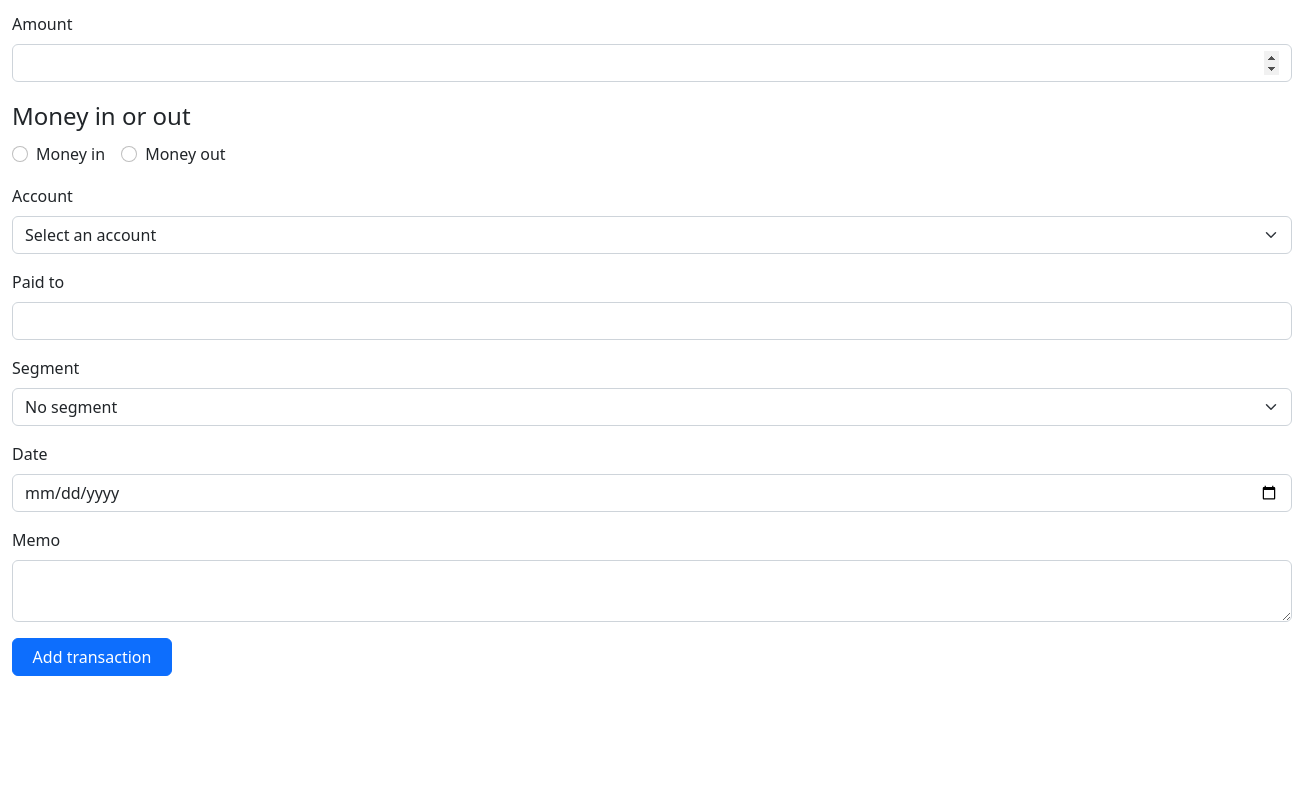
Test case: zero or negative amount is blocked with inline validation before submit
The width and height of the screenshot is (1304, 812).
Type "0" into the number field labelled "Amount".
click(652, 63); type("0")  # box x1=12 y1=44 x2=1292 y2=82
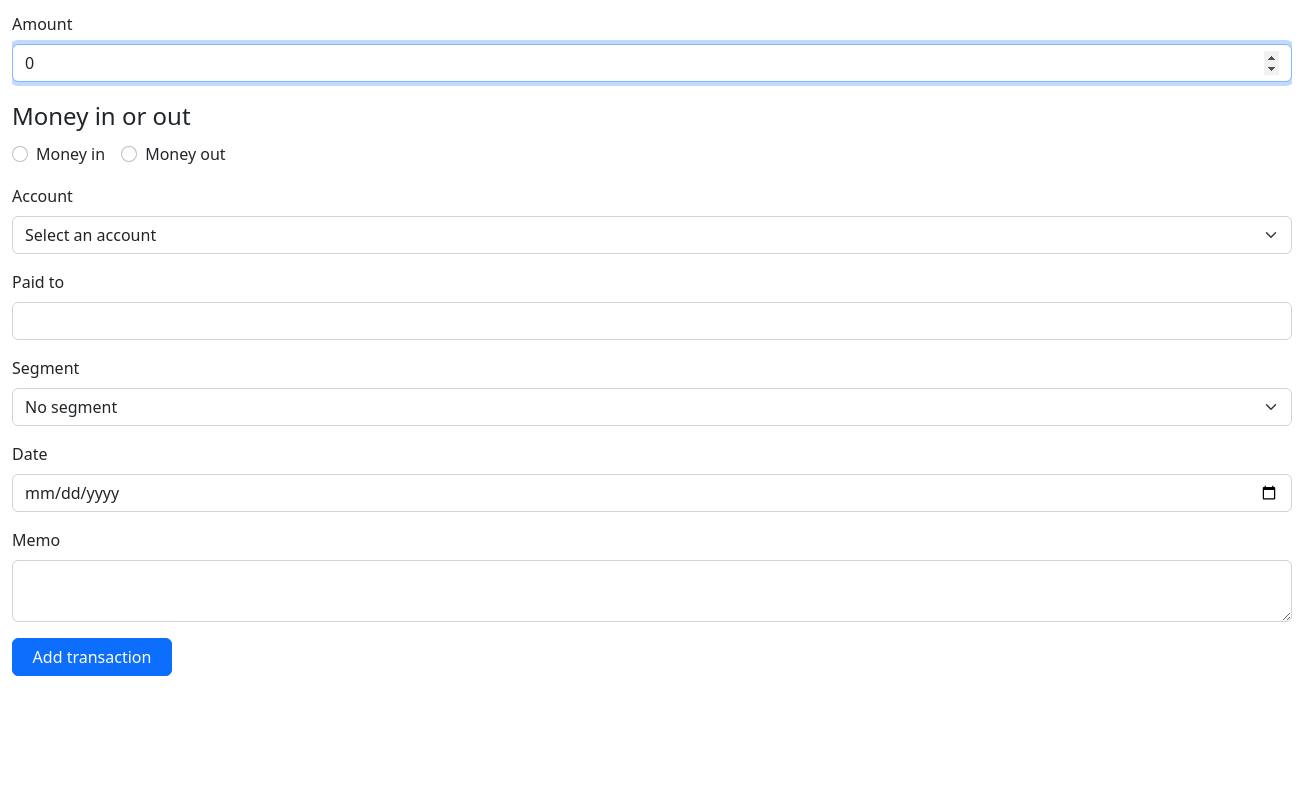
Click the button "Add transaction".
click(92, 657)  # box x1=12 y1=638 x2=172 y2=676
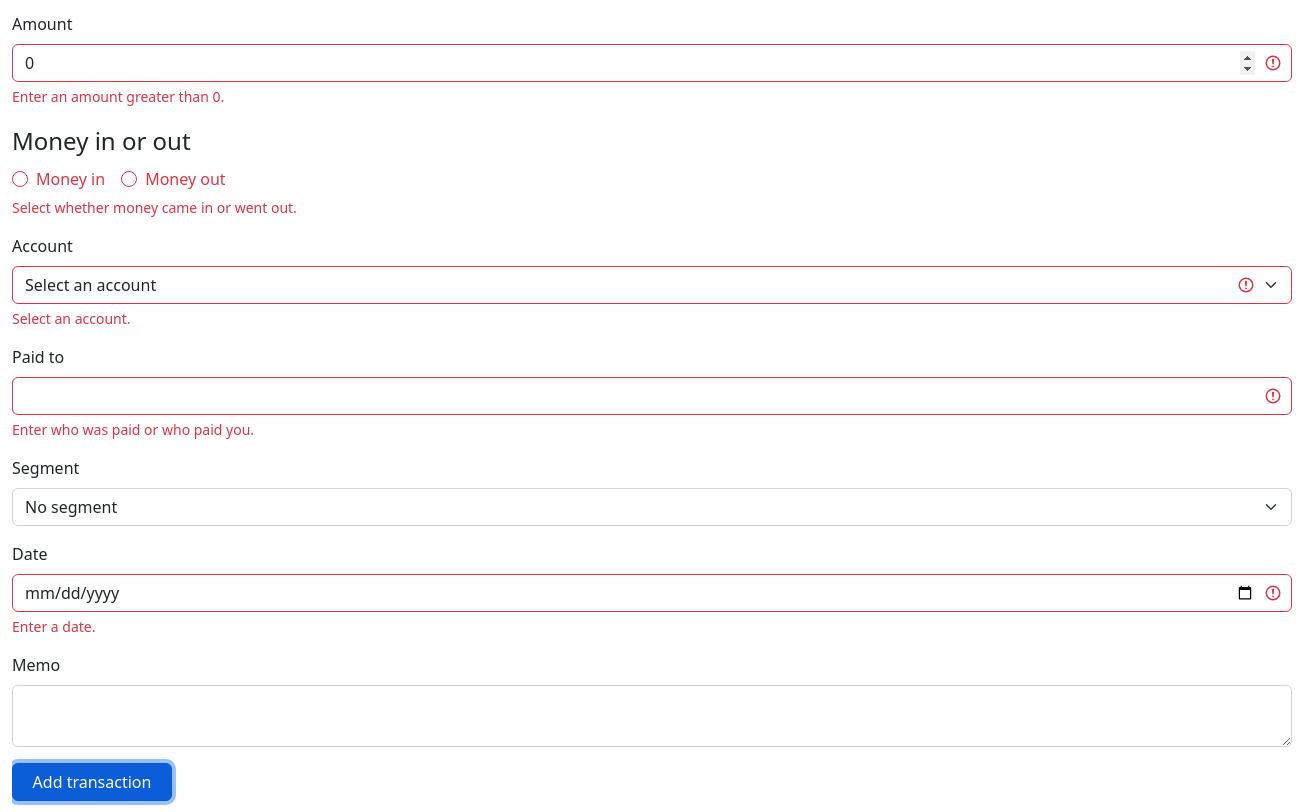
Now the text "Enter an amount greater than 0." is shown, box x1=12 y1=87 x2=224 y2=106
Replace the text in the number field labelled "Amount" with "-5" at x=652, y=63, box x1=12 y1=44 x2=1292 y2=82
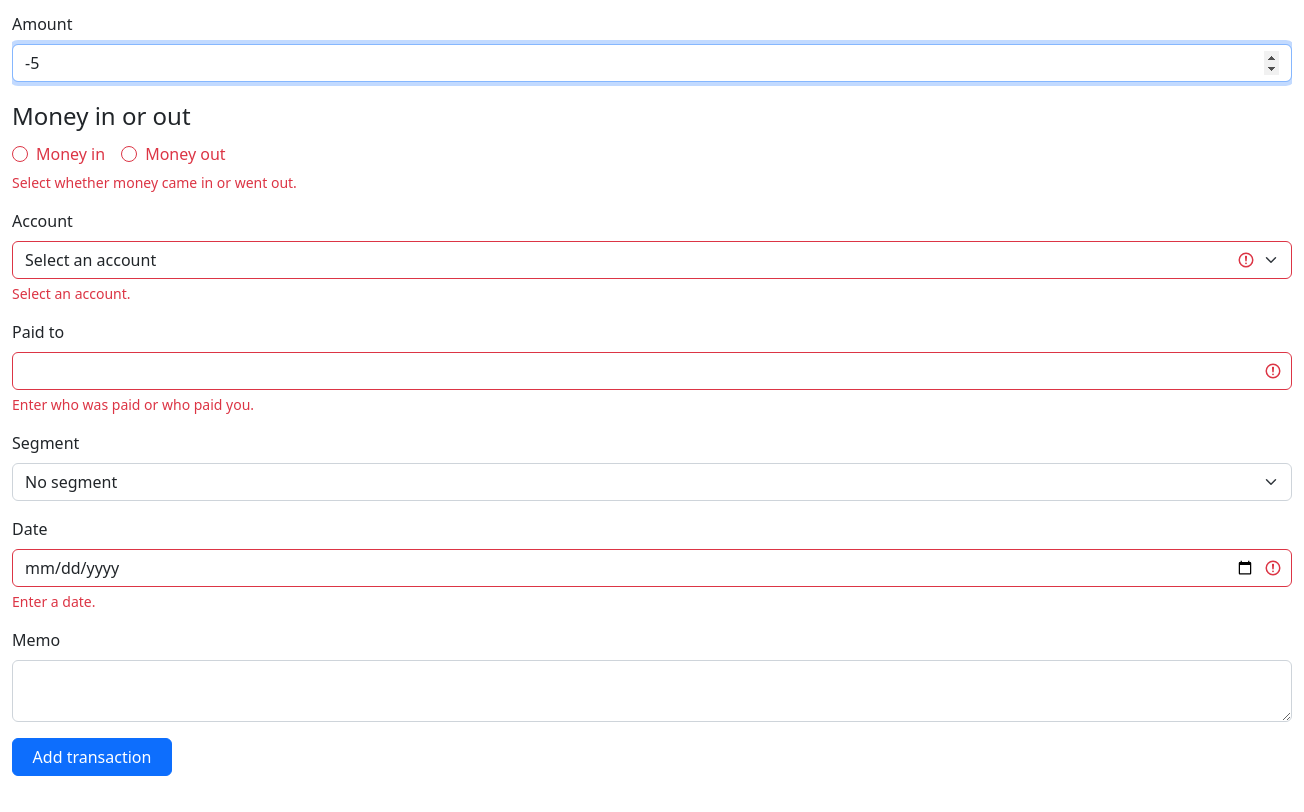
Click the button "Add transaction".
click(92, 757)  # box x1=12 y1=738 x2=172 y2=776
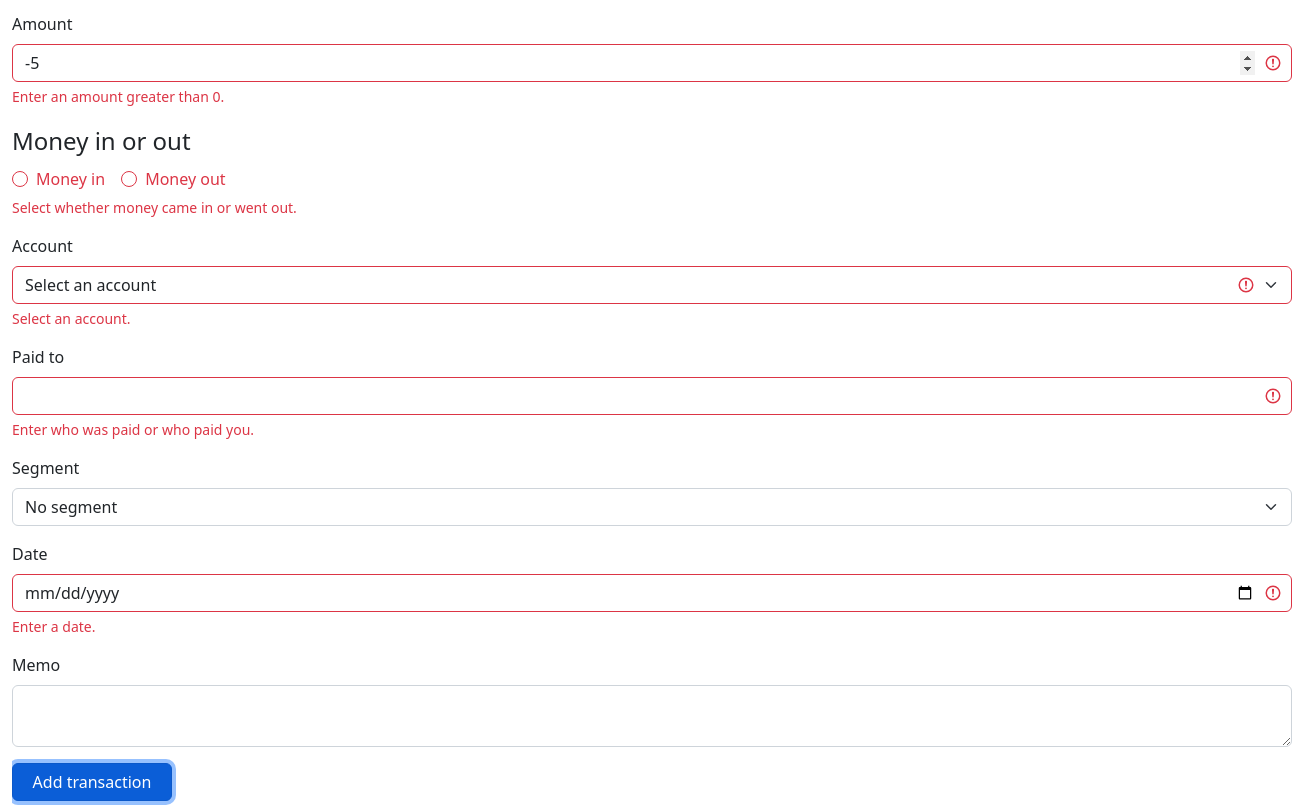
Now the text "Enter an amount greater than 0." is shown, box x1=12 y1=87 x2=224 y2=106
